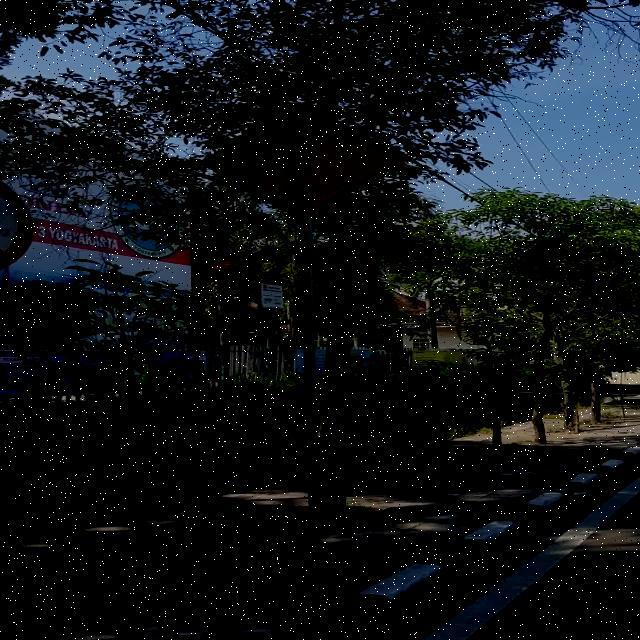Hati-Hati: (204, 105, 402, 218)
